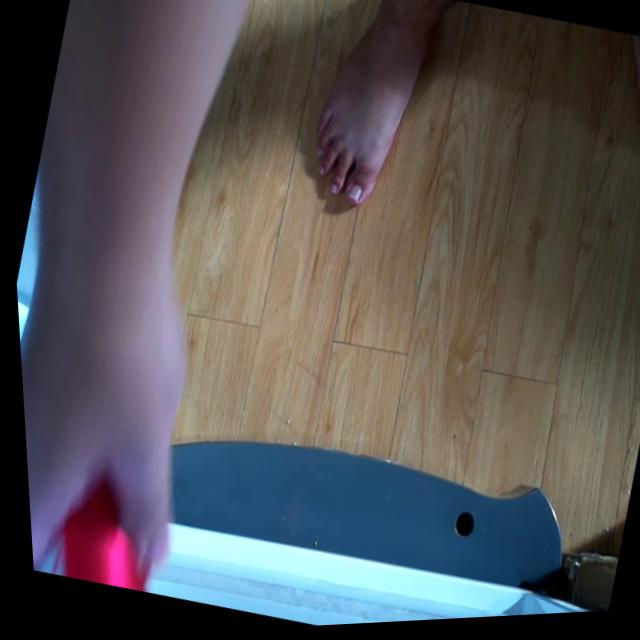coke: (41, 453, 166, 597)
